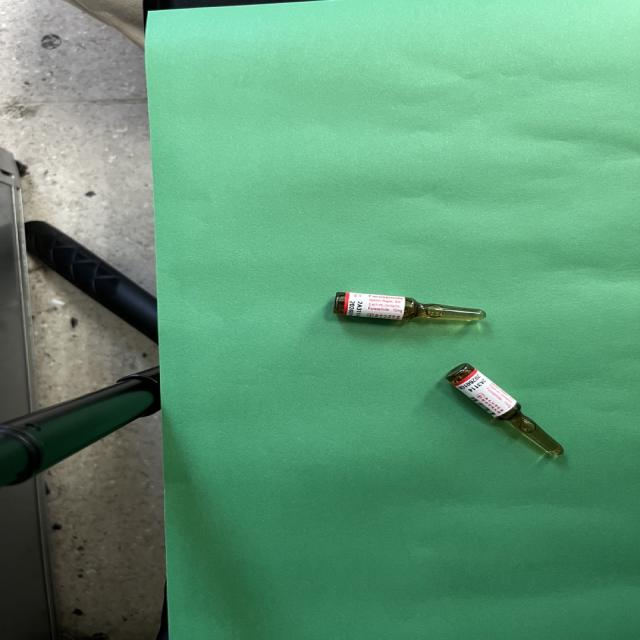Ampoules: (445, 364, 565, 456), (333, 292, 487, 322)
